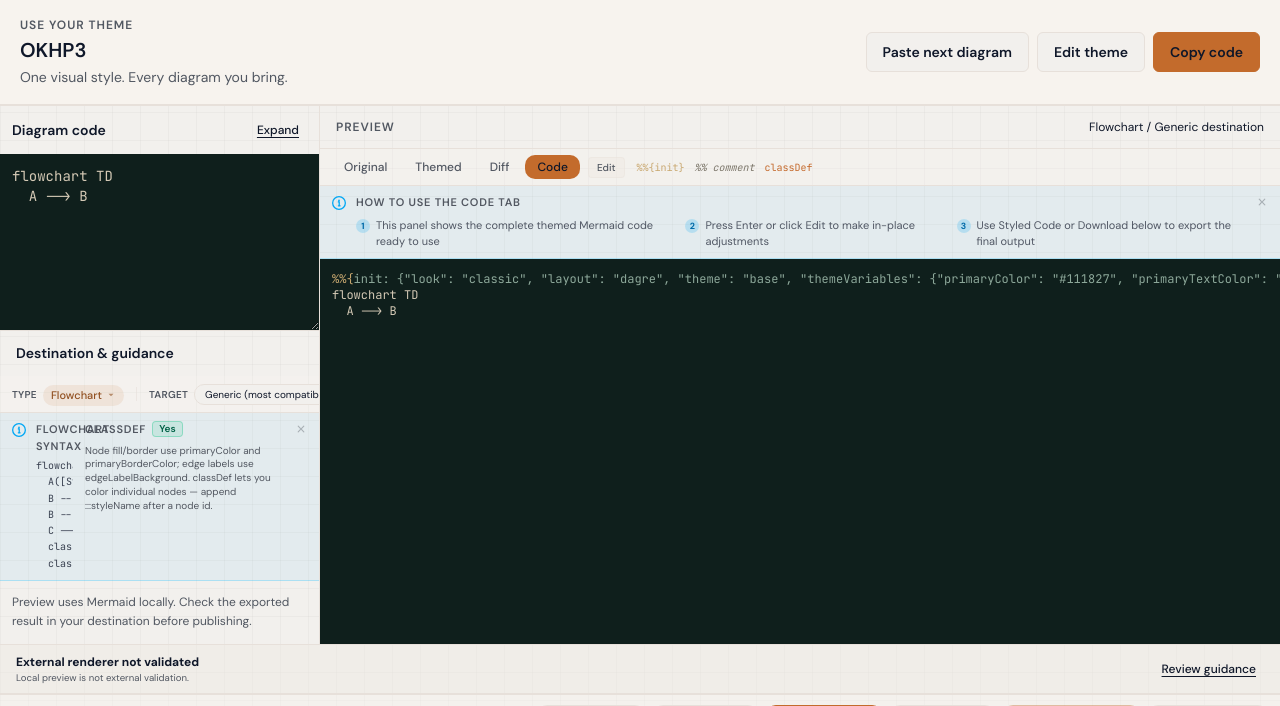
Test case: ApplyTab code mode — Edit button in real component › clicking Edit shows a textarea with aria-label='Styled code output — edit before copying'
Step 1. Click the button titled "Edit the styled code before copying" → click(606, 167), box [588,156,624,178]
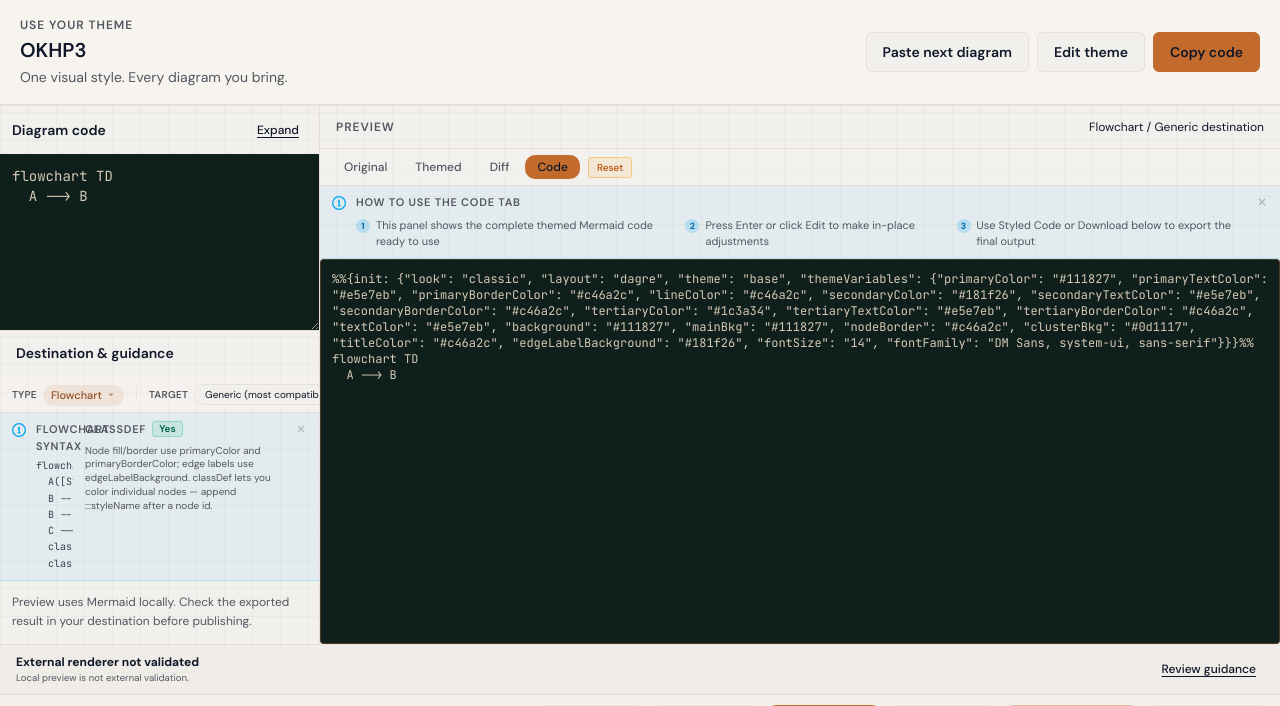
Result: the text box named "Styled code output — edit before copying" is shown at [320,258,1279,644]
